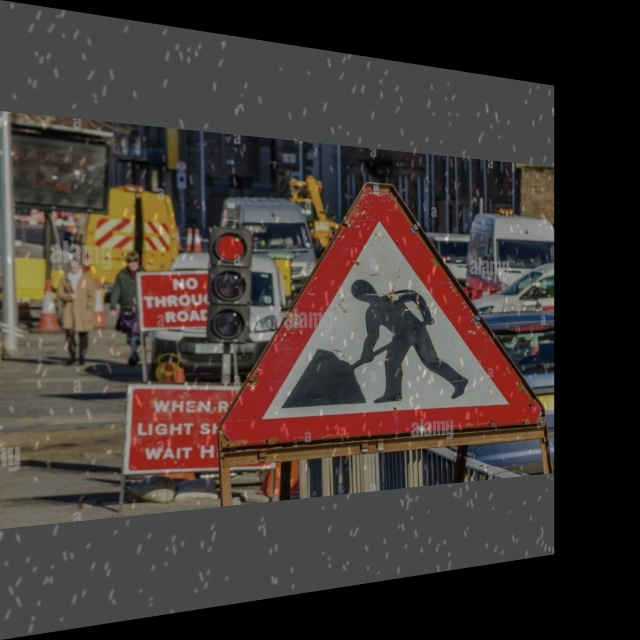Men_at_Work: (243, 182, 523, 452)
